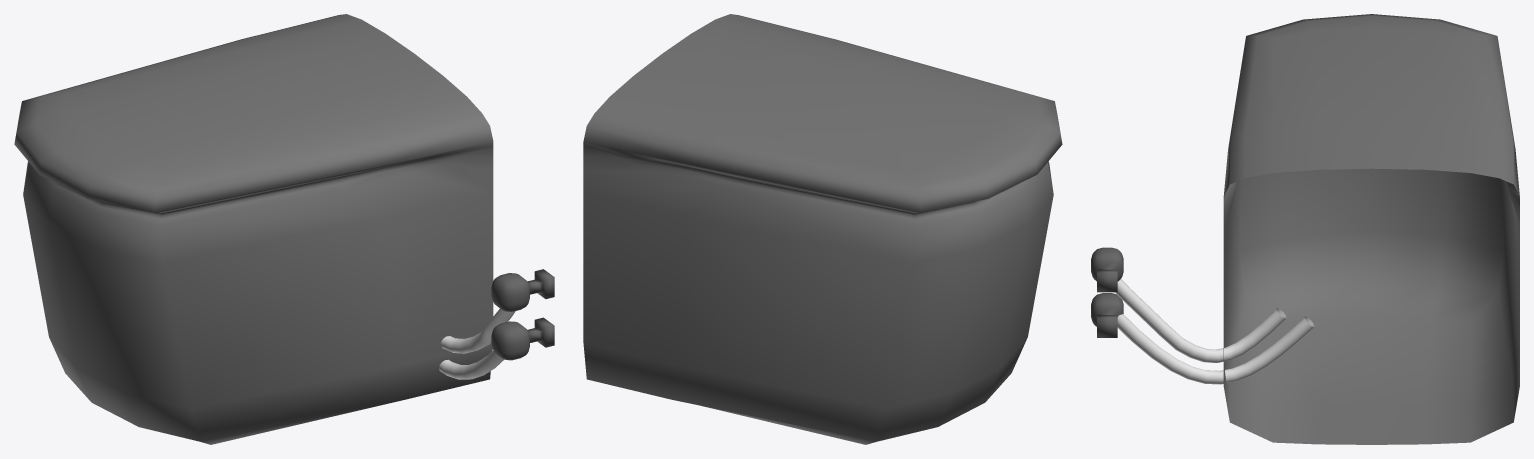
Rendered from Closet.fbx.
3 views of the same model, side by side, from view 1: azimuth 30°, elevation 25°; view 2: azimuth 150°, elevation 25°; view 3: azimuth 270°, elevation 25° (orthographic). The views are drawn at different scales.
Parts seen in each view (by area): view 1: Closet; view 2: Closet; view 3: Closet.
Part boxes in pixels (x1=…): Closet: x1=14, y1=14, x2=554, y2=444; Closet: x1=583, y1=14, x2=1062, y2=444; Closet: x1=1091, y1=14, x2=1519, y2=444.
Bounding box in the file's own units: 0.4841 × 0.5112 × 0.3632.
